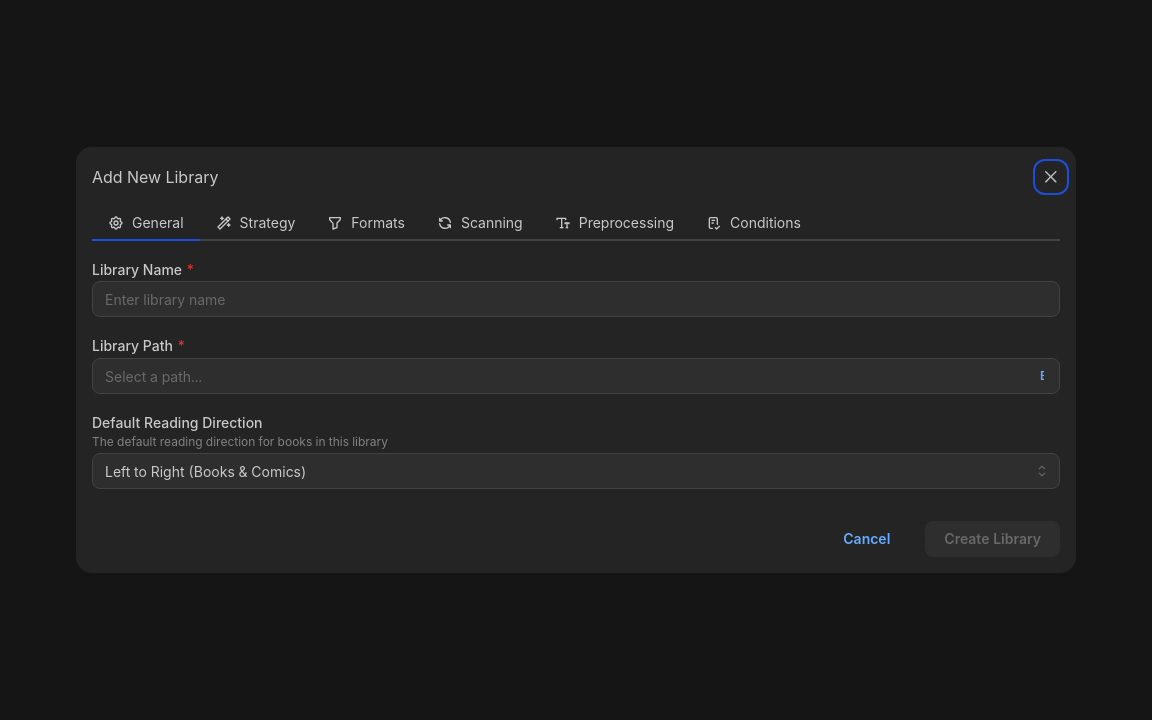
Test: LibraryModal (Add Mode) › should open path browser when Browse button is clicked
The width and height of the screenshot is (1152, 720).
Click the button "Browse" at coordinates (1042, 376), box x1=1025 y1=361 x2=1059 y2=391
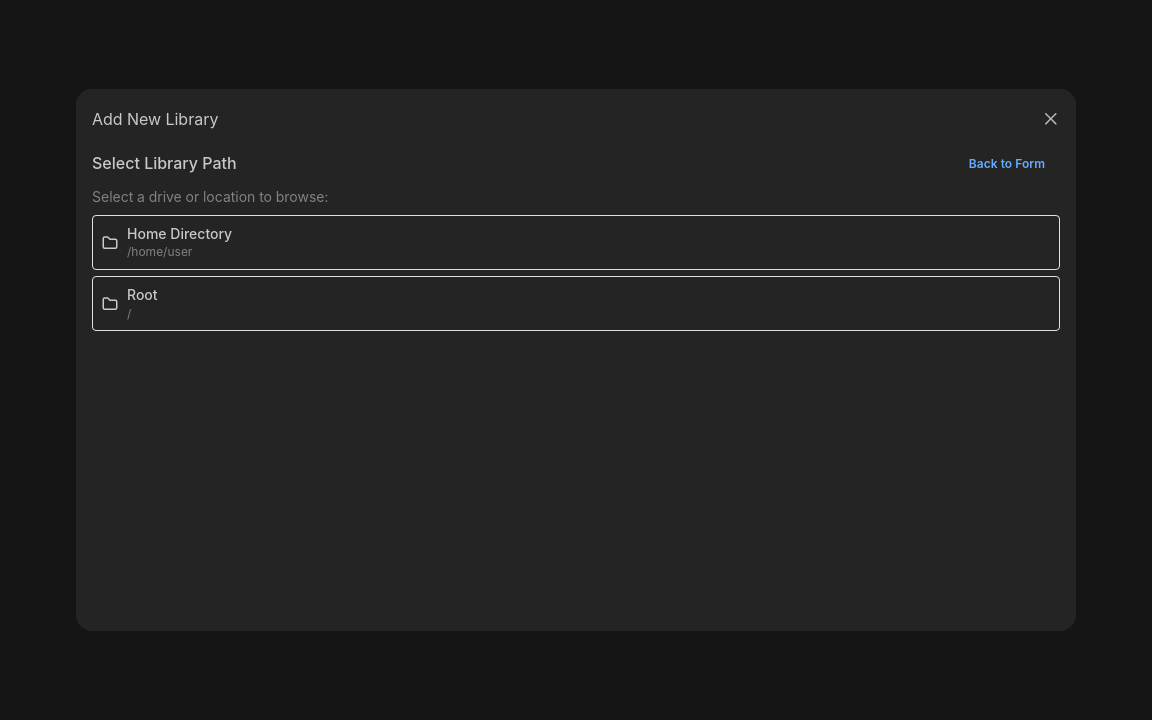
expect the text "Select Library Path" is shown: met, box x1=92 y1=151 x2=237 y2=176
